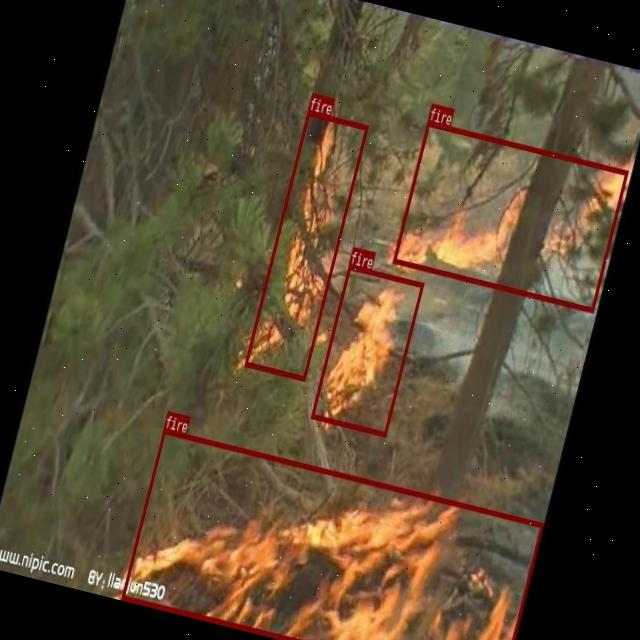fire: (120, 427, 543, 640), (392, 120, 628, 312), (243, 110, 368, 380), (310, 264, 423, 435)
